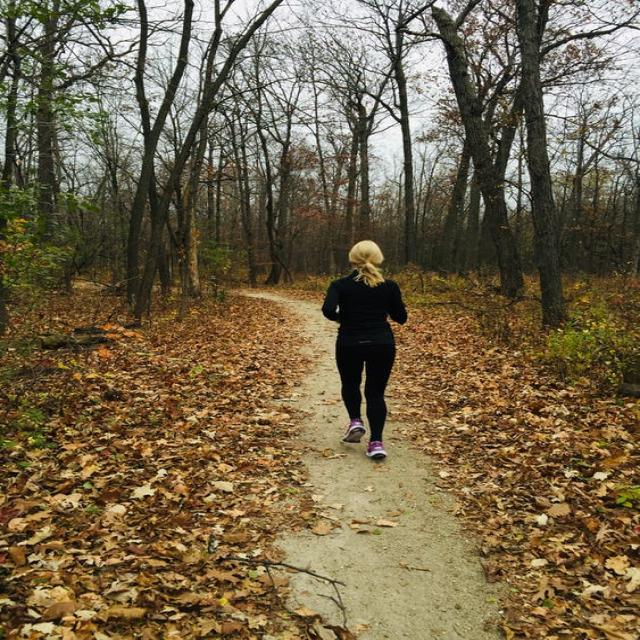running: (317, 236, 415, 463)
